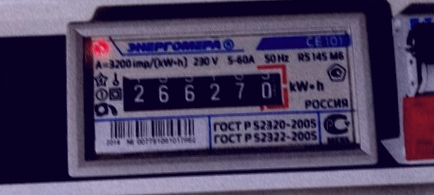0: (258, 78, 273, 99)
2: (131, 81, 145, 103), (208, 80, 222, 101)
6: (156, 81, 169, 103), (182, 81, 196, 101)
7: (234, 79, 245, 99)
screen: (109, 58, 294, 121)
